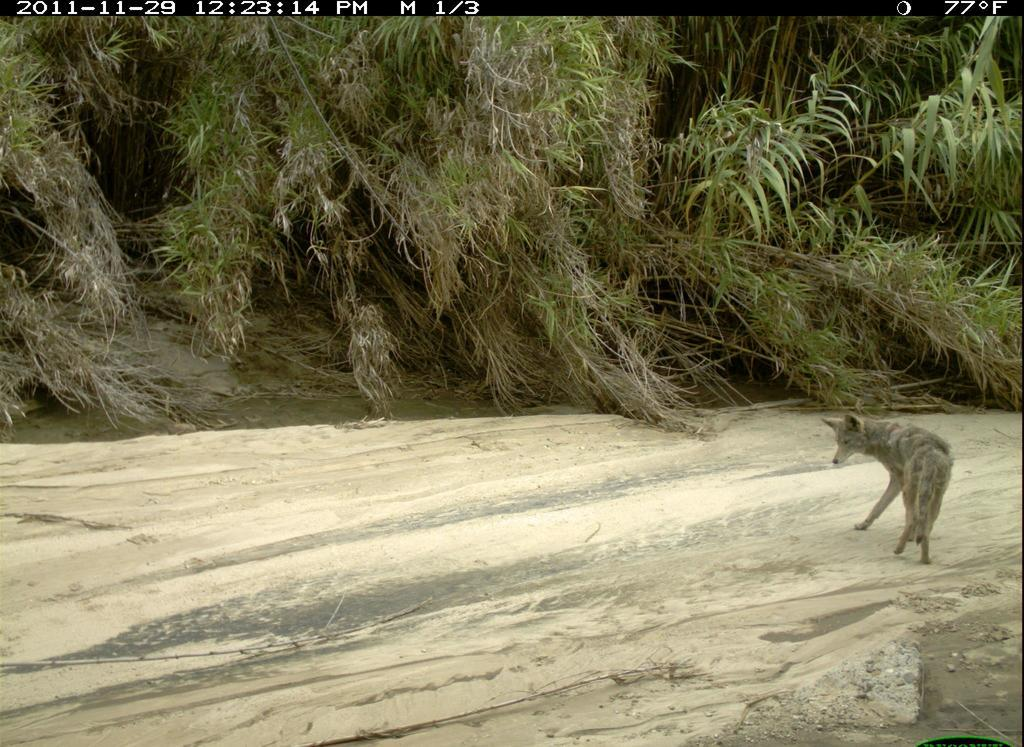coyote: (817, 395, 956, 574)
